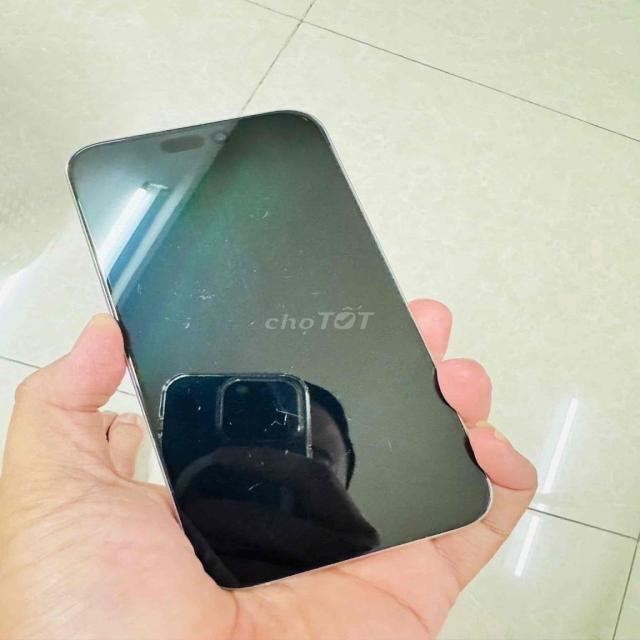gen_15: (48, 108, 507, 602)
scratch: (258, 401, 332, 447), (177, 283, 231, 321), (226, 195, 285, 224), (133, 262, 160, 300), (380, 435, 414, 461), (238, 480, 264, 503), (302, 104, 316, 136), (187, 404, 206, 426)
